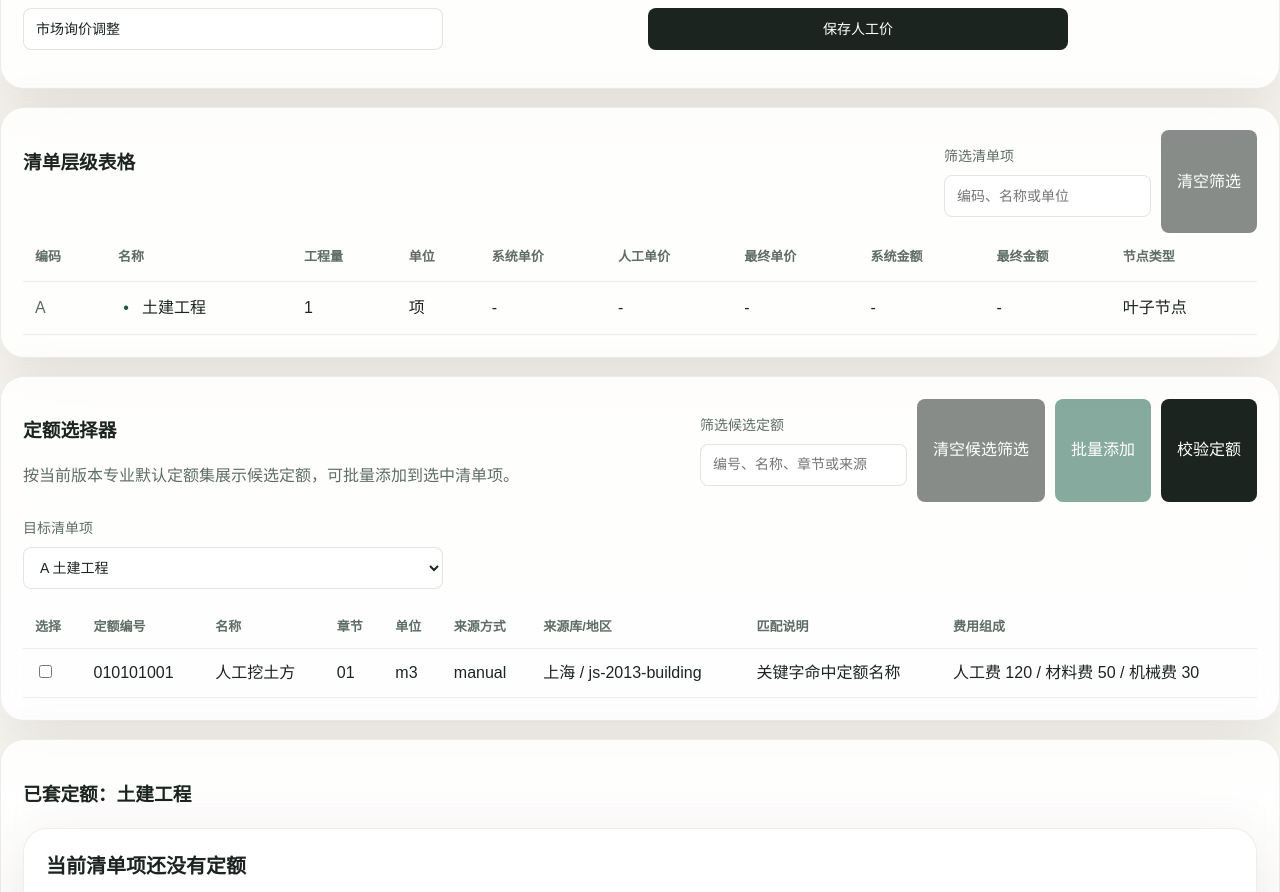
BillItemsPage › renders project name in breadcrumbs and header context
(page scrolled)
Expected: the heading "定额选择器" is shown, [23,420,116,441]
Expected: the text "人工挖土方" is shown, [203,648,325,698]
Click the button "校验定额" at [1209, 450], box [1161,398,1257,502]
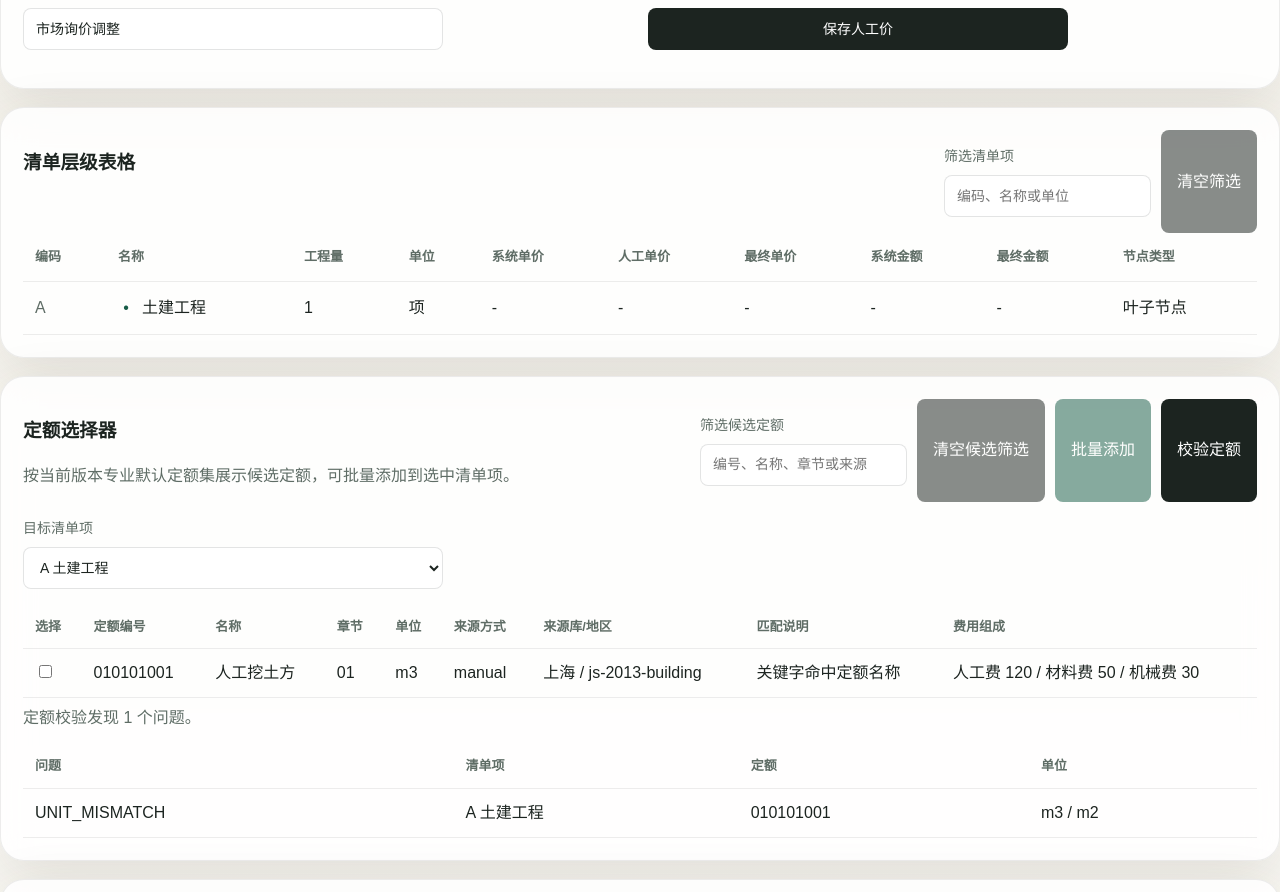
Result: the text "定额校验发现 1 个问题。" is shown at [23,709,201,726]
Result: the text "UNIT_MISMATCH" is shown at [23,788,454,837]
Result: the text "m3 / m2" is shown at [1029,788,1257,837]
